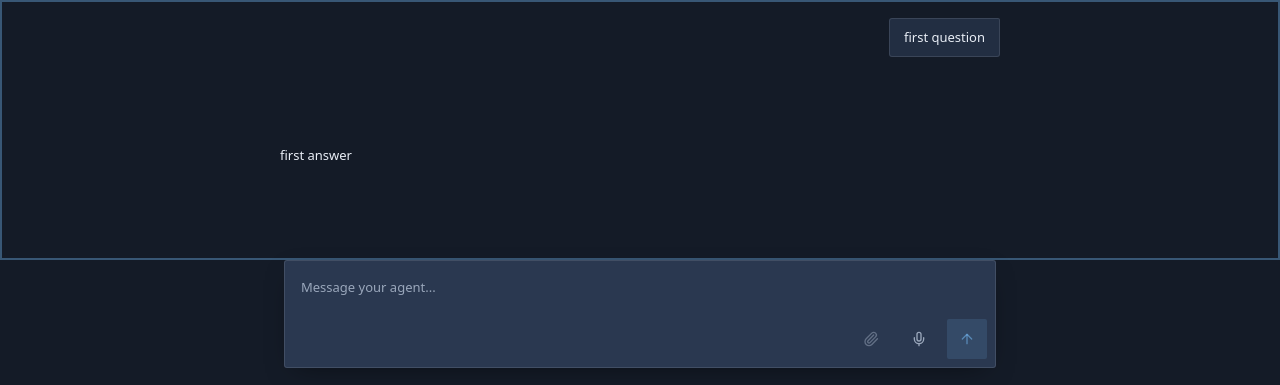
Test case: ChatView — fork from here › does not break find-in-conversation on the ancestor path
The image size is (1280, 385).
Type keys "{Meta>}f{/Meta}"
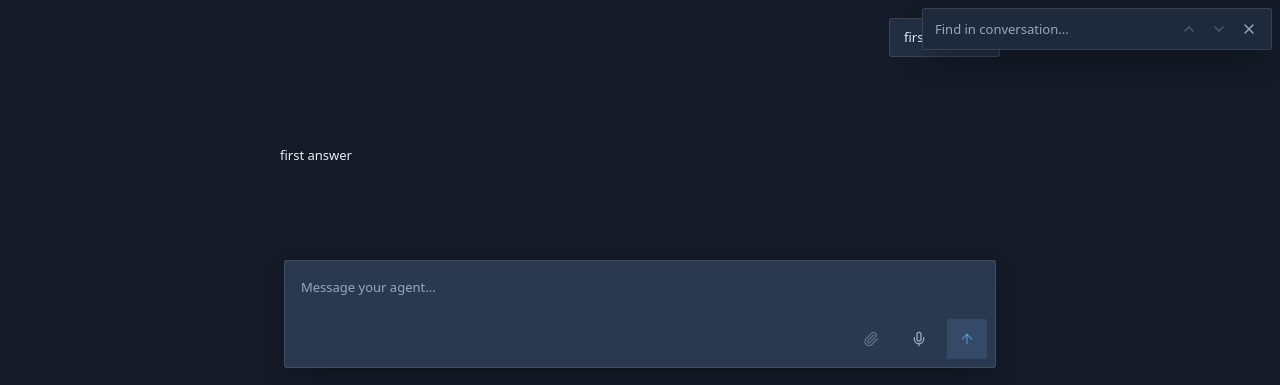
In the search field: (1019, 29) [931,15,1107,43], type "answer"
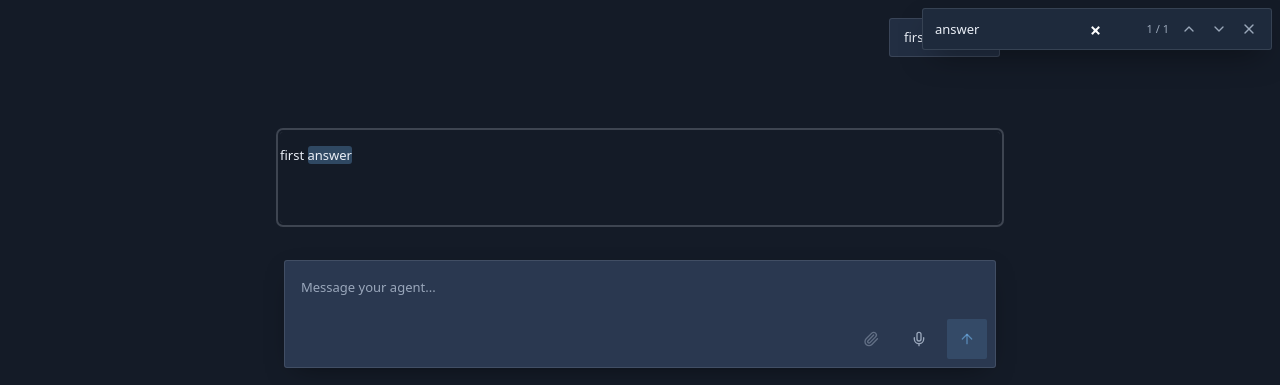
Now the text "1 / 1" is shown, box [1147,21,1169,36]
